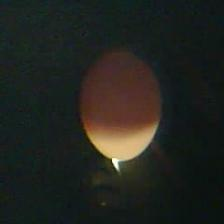fertile: (74, 41, 168, 168)
